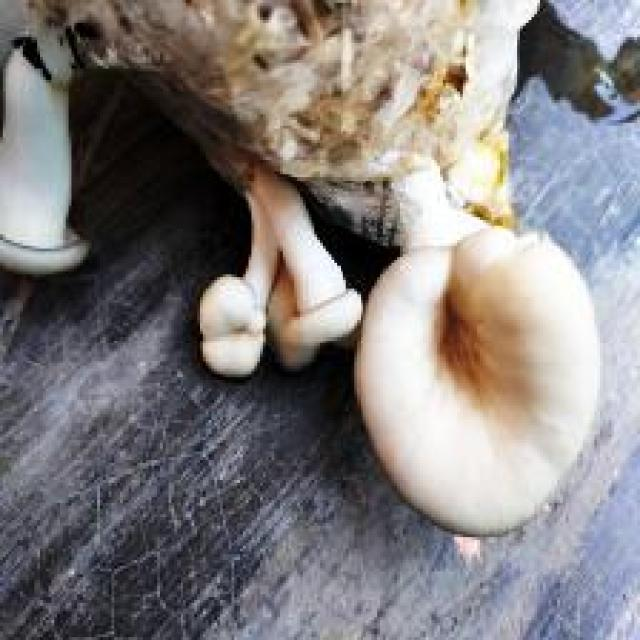field-mushroom: (348, 166, 603, 537)
